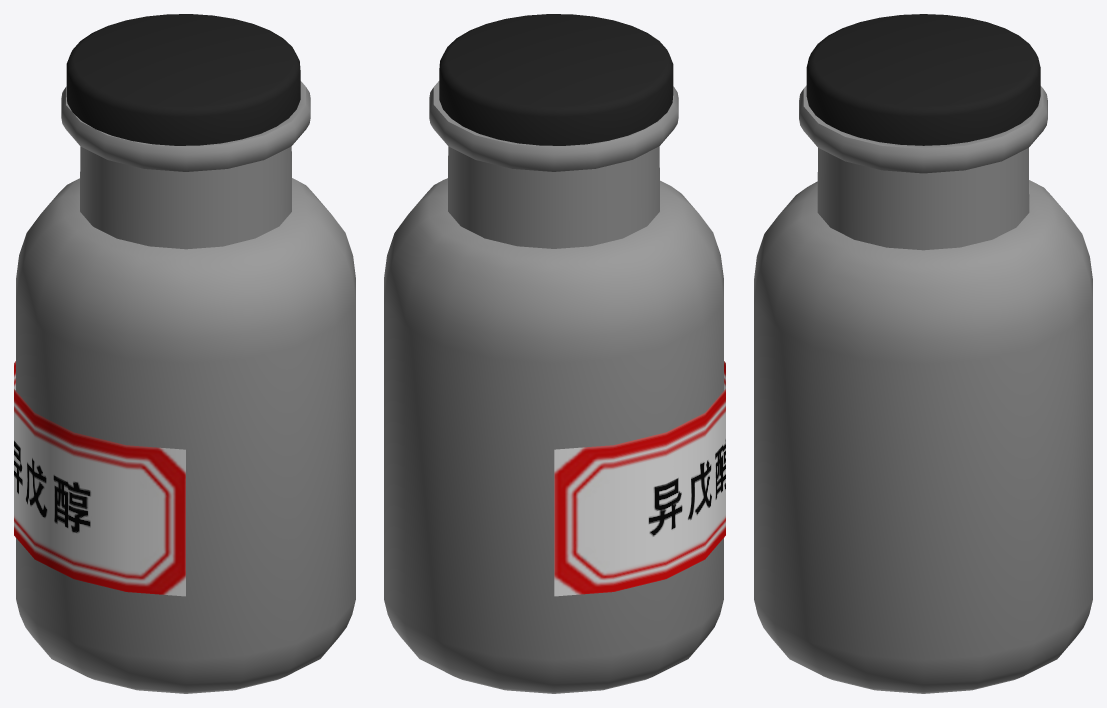
The model's file is SM_G异戊醇.FBX.
3 renders of one model, left to right at view 1: azimuth 30°, elevation 25°; view 2: azimuth 150°, elevation 25°; view 3: azimuth 270°, elevation 25°, orthographic.
Visible parts, largest first — view 1: SM_G异戊醇, SM_G异戊醇盖子; view 2: SM_G异戊醇, SM_G异戊醇盖子; view 3: SM_G异戊醇, SM_G异戊醇盖子.
Boxes of the visible parts, x1,y1,x2,y2 form: SM_G异戊醇: (14,81,355,693); SM_G异戊醇盖子: (66,14,300,145); SM_G异戊醇: (384,81,725,693); SM_G异戊醇盖子: (439,14,673,145); SM_G异戊醇: (754,85,1092,693); SM_G异戊醇盖子: (806,14,1040,145).
Bounding box in the file's own units: 4.62 × 4.52 × 8.42.
